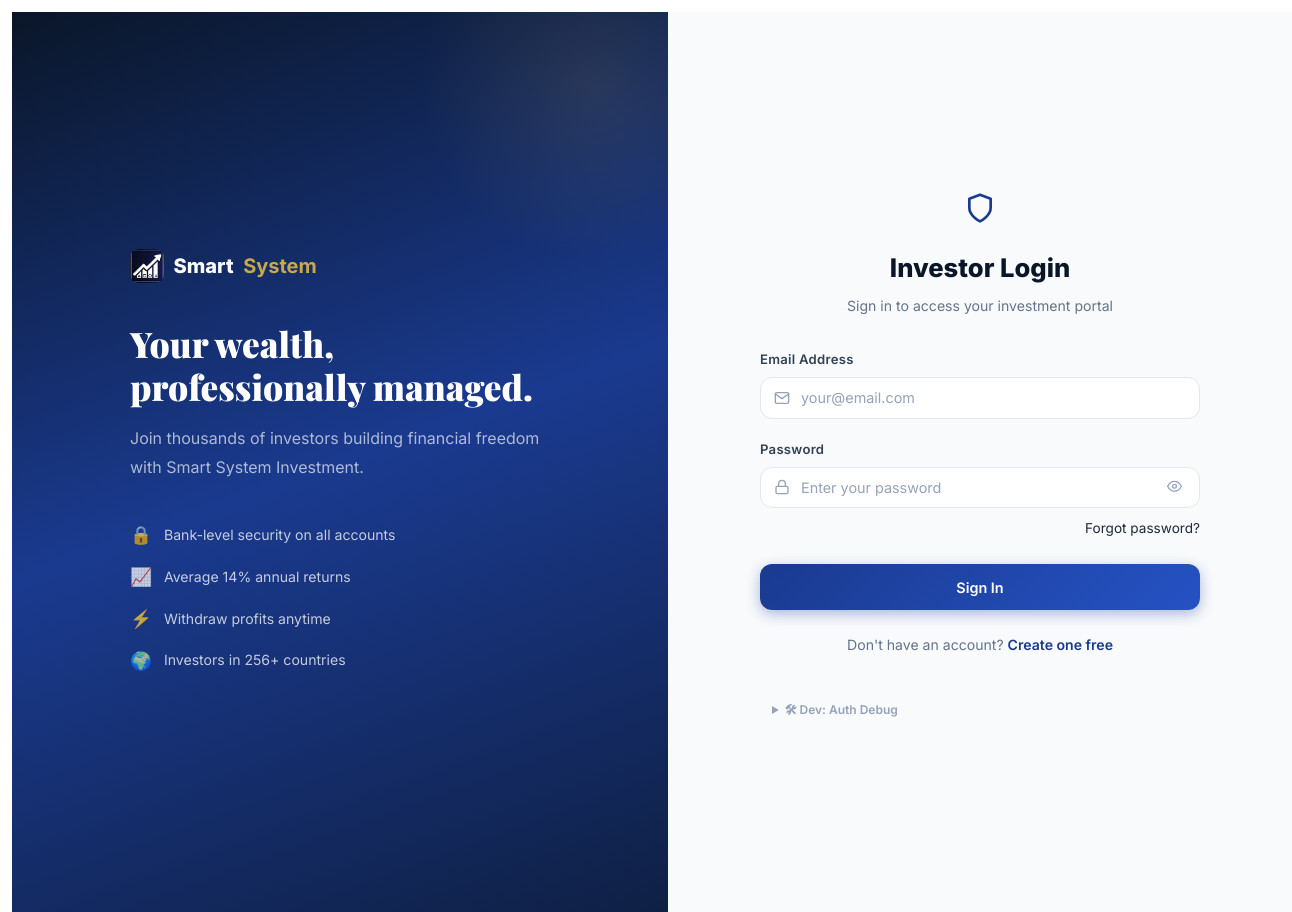
LoginPage — where each role goes after a successful login › financial → FINANCIAL DASHBOARD
In the field with placeholder "your@email.com": (980, 398) left=760, top=377, right=1200, bottom=419, type "someone@ssi-dev.test"
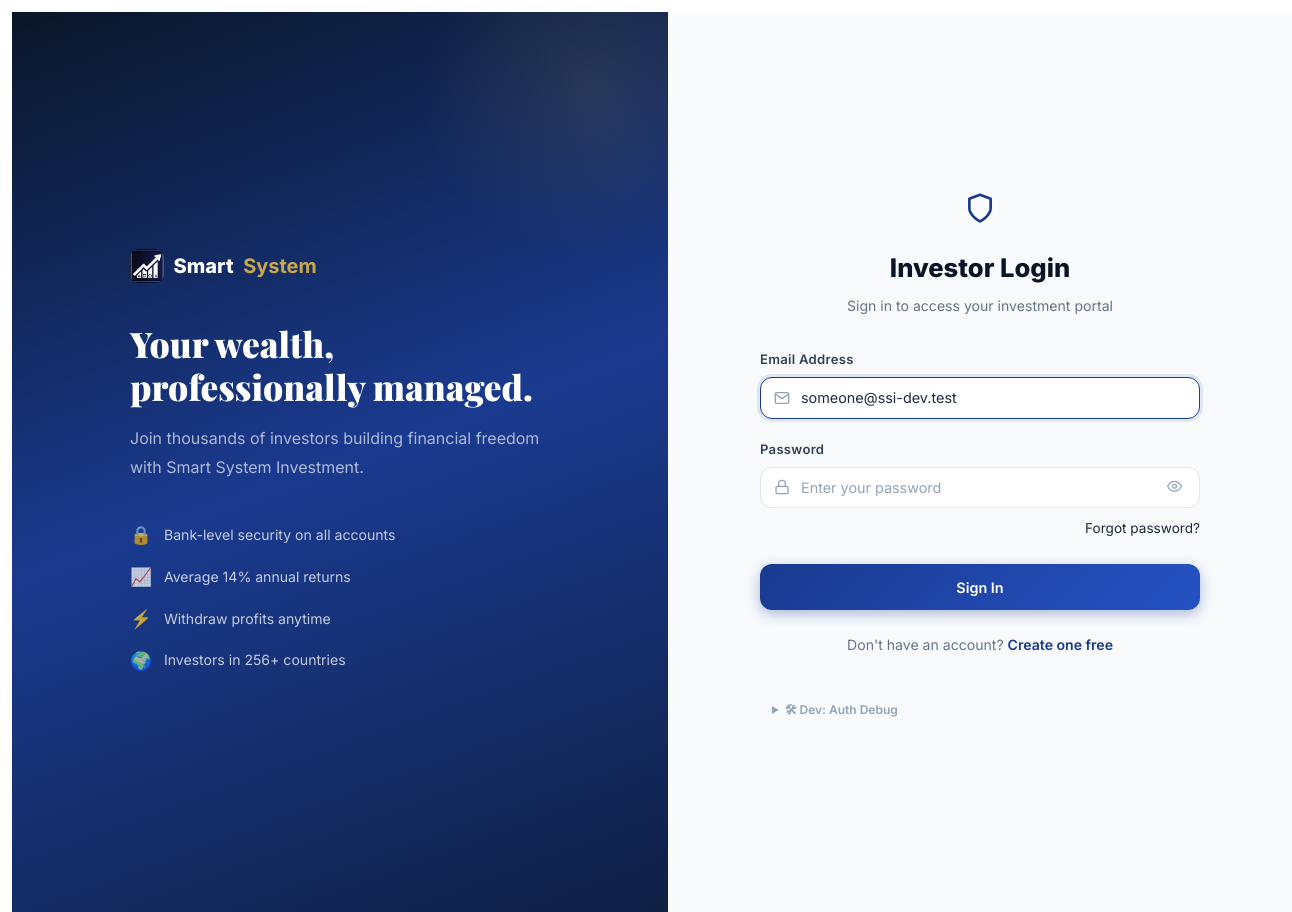
In the password field with placeholder "Enter your password": (980, 488) left=760, top=467, right=1200, bottom=508, type "not-a-real-password"
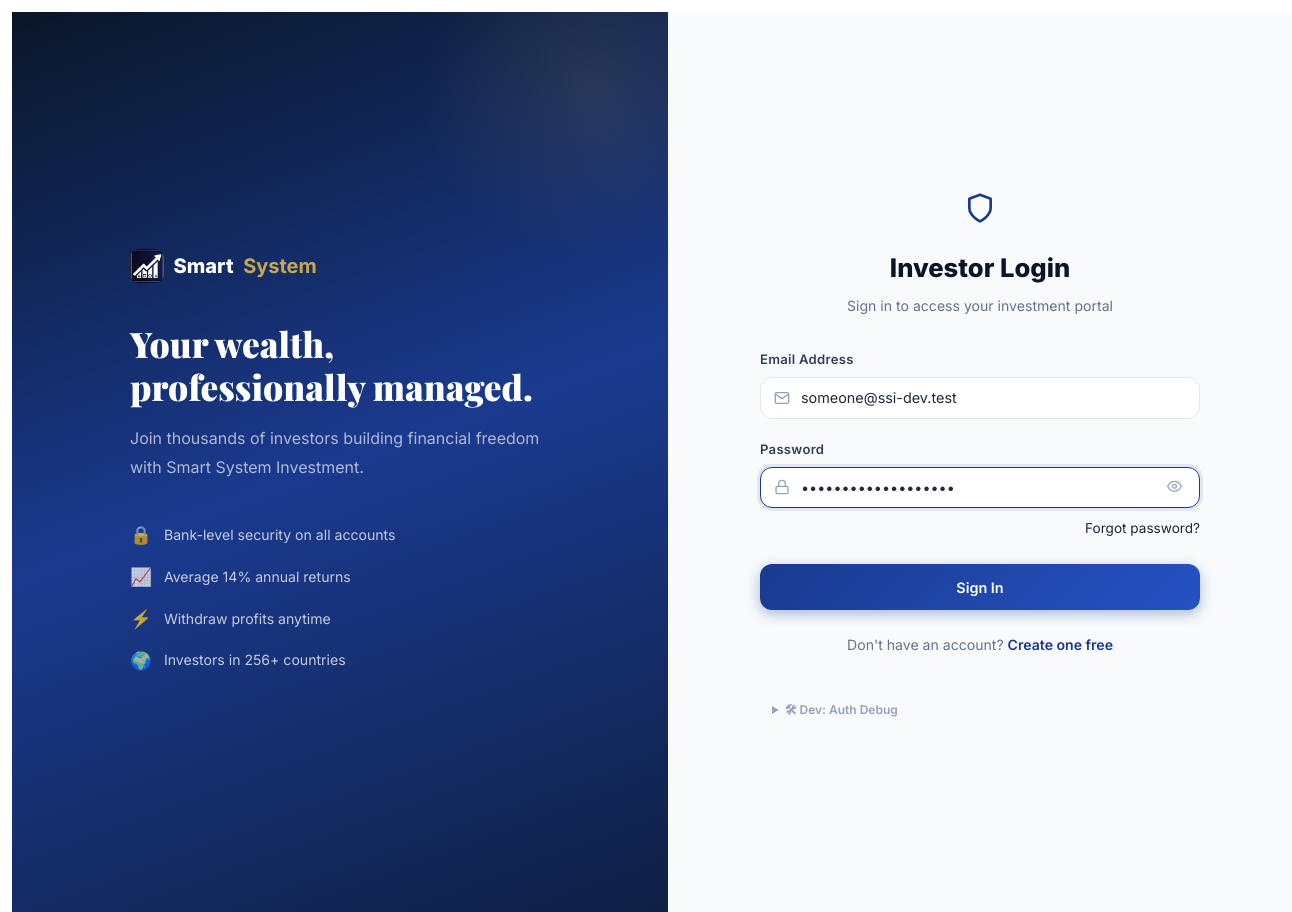
Click the button "Sign In": (980, 587) left=760, top=564, right=1200, bottom=610
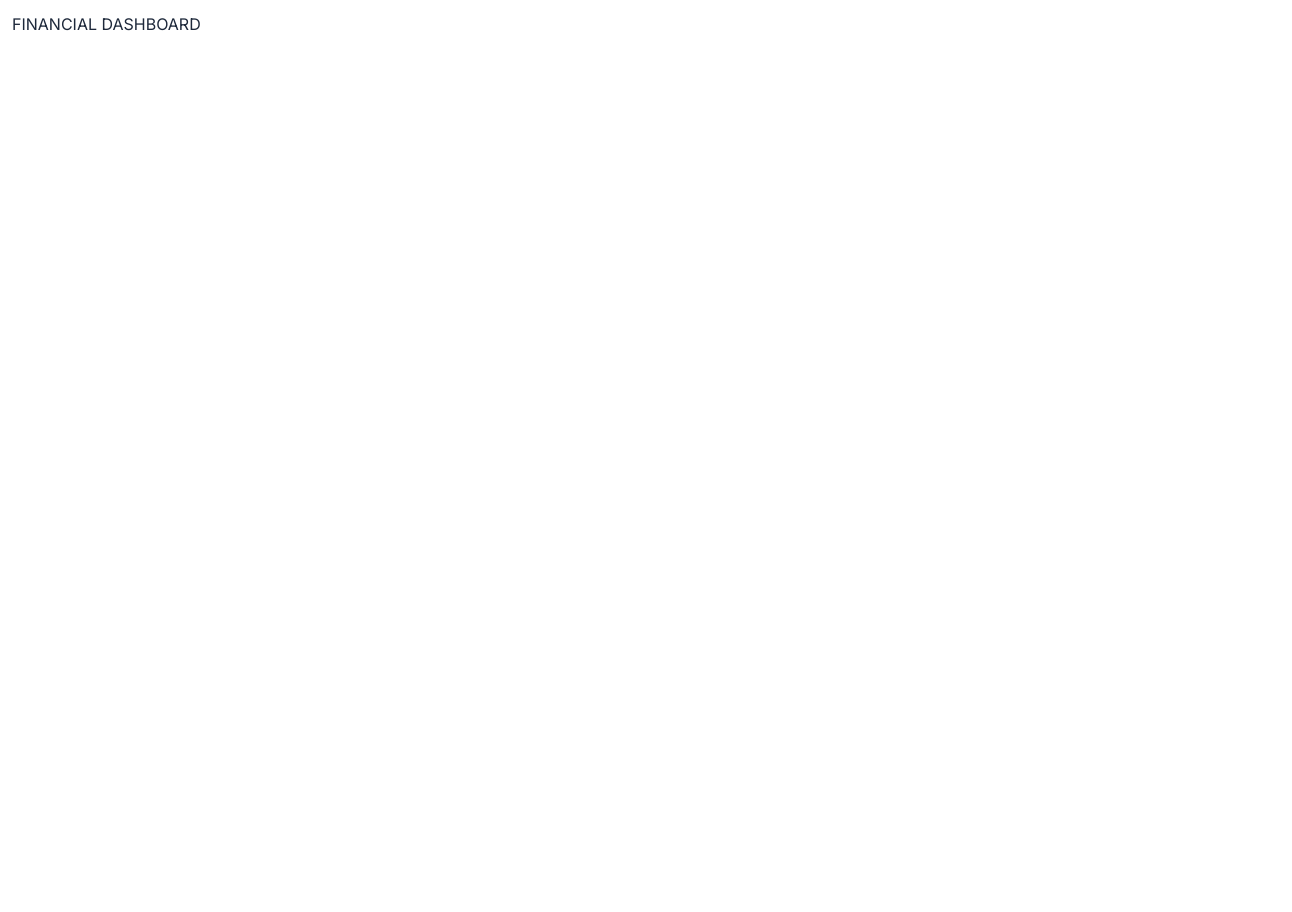
Now the text "FINANCIAL DASHBOARD" is shown, box left=12, top=14, right=201, bottom=34
